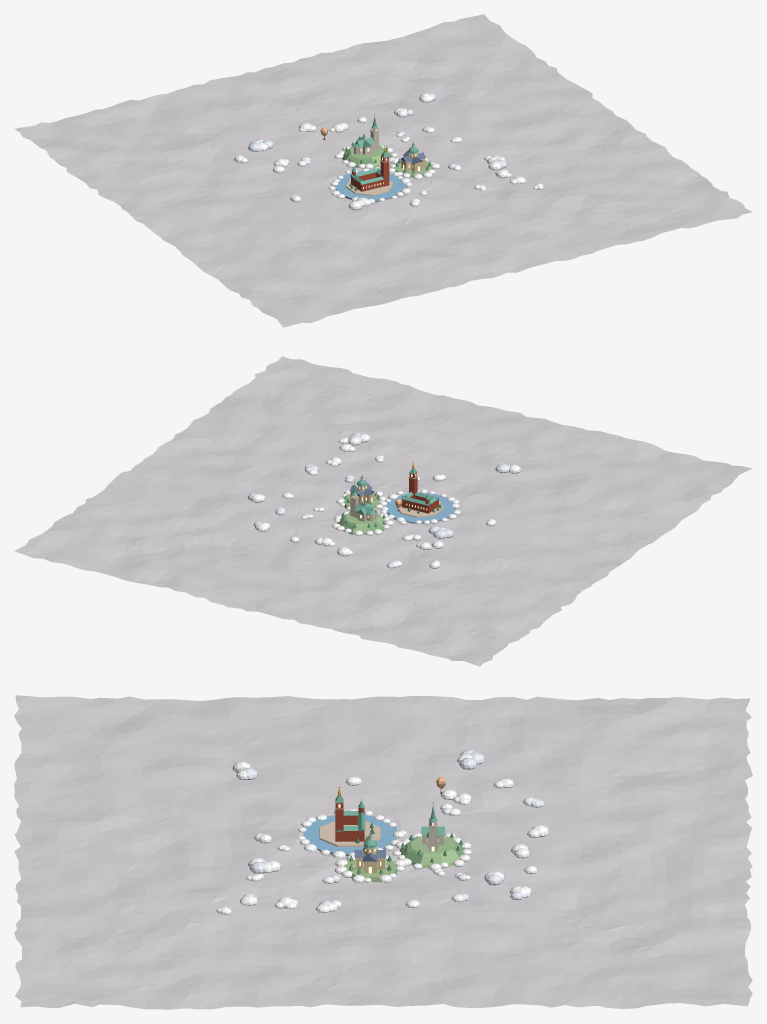
3 renders of one model, top to bottom at view 1: azimuth 30°, elevation 25°; view 2: azimuth 150°, elevation 25°; view 3: azimuth 270°, elevation 25°, orthographic. The views are drawn at different scales.
Visible parts, largest first — view 1: cloud_sea, env_island_stadshuset, interactive_stadshuset, env_hill_vitabergen, cloud_collar_stadshuset, interactive_sofiakyrkan; view 2: cloud_sea, env_island_stadshuset, interactive_stadshuset, env_hill_vitabergen, cloud_collar_stadshuset, interactive_sofiakyrkan; view 3: cloud_sea, env_island_stadshuset, env_hill_vitabergen, interactive_stadshuset, cloud_collar_stadshuset, interactive_adolffredrik, cloud_collar_sofiakyrkan, interactive_sofiakyrkan, cloud_collar_adolffredrik, env_churchyard_adolffredrik.
Boxes of the visible parts, left/top/right/bottom form: cloud_sea: left=14, top=14, right=752, bottom=327; env_island_stadshuset: left=334, top=170, right=405, bottom=201; interactive_stadshuset: left=350, top=145, right=389, bottom=191; env_hill_vitabergen: left=342, top=142, right=391, bottom=168; cloud_collar_stadshuset: left=328, top=167, right=411, bottom=203; interactive_sofiakyrkan: left=353, top=113, right=379, bottom=154; cloud_sea: left=14, top=356, right=752, bottom=666; env_island_stadshuset: left=385, top=492, right=455, bottom=523; interactive_stadshuset: left=401, top=462, right=439, bottom=513; env_hill_vitabergen: left=337, top=509, right=385, bottom=535; cloud_collar_stadshuset: left=380, top=489, right=460, bottom=524; interactive_sofiakyrkan: left=350, top=480, right=375, bottom=521; cloud_sea: left=14, top=695, right=752, bottom=1009; env_island_stadshuset: left=303, top=815, right=396, bottom=856; env_hill_vitabergen: left=399, top=833, right=464, bottom=868; interactive_stadshuset: left=334, top=787, right=365, bottom=841; cloud_collar_stadshuset: left=297, top=809, right=406, bottom=858; interactive_adolffredrik: left=354, top=832, right=385, bottom=872; cloud_collar_sofiakyrkan: left=392, top=832, right=471, bottom=870; interactive_sofiakyrkan: left=421, top=802, right=444, bottom=851; cloud_collar_adolffredrik: left=334, top=855, right=405, bottom=882; env_churchyard_adolffredrik: left=344, top=855, right=396, bottom=882.
Bounding box in the file's own units: 158 × 14.23 × 158.
